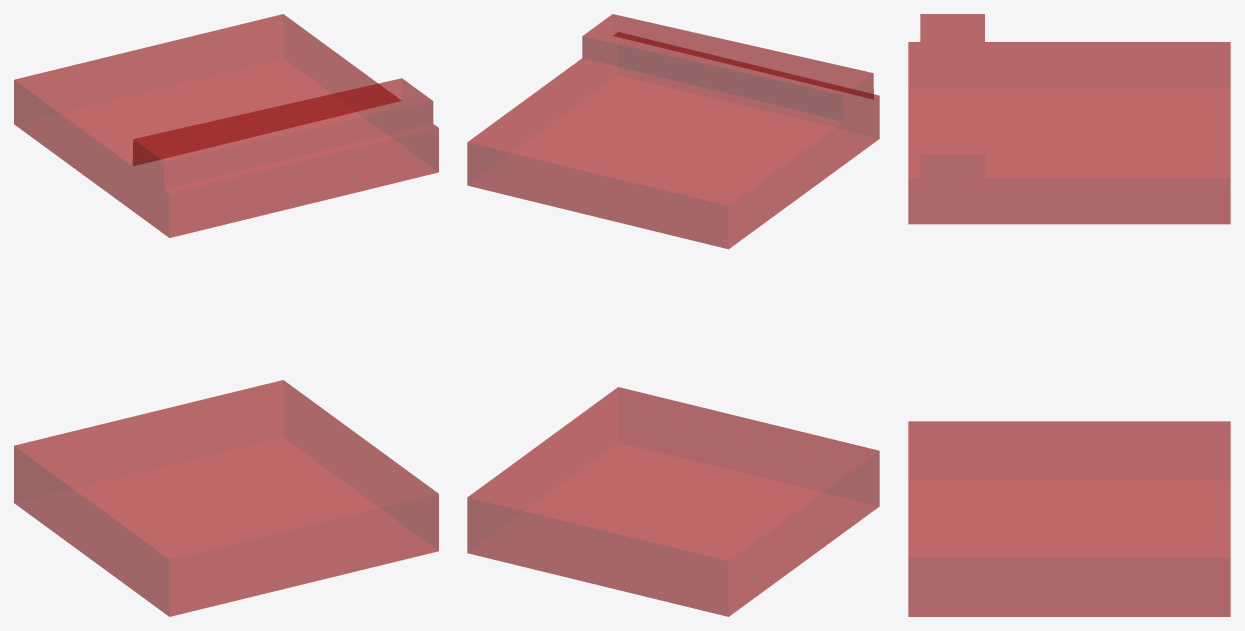
The model's file is SM_Env_Motorway_Tunnel_Middle_01_Collision.fbx.
3 renders of one model, left to right at view 1: azimuth 30°, elevation 25°; view 2: azimuth 150°, elevation 25°; view 3: azimuth 270°, elevation 25°, orthographic. The views are drawn at different scales.
Parts seen in each view (by area): view 1: SM_Env_Motorway_Tunnel_Middle_01_Collision; view 2: SM_Env_Motorway_Tunnel_Middle_01_Collision; view 3: SM_Env_Motorway_Tunnel_Middle_01_Collision.
Part boxes in pixels (left/top/right/bottom): SM_Env_Motorway_Tunnel_Middle_01_Collision: left=14, top=14, right=438, bottom=616; SM_Env_Motorway_Tunnel_Middle_01_Collision: left=467, top=14, right=879, bottom=616; SM_Env_Motorway_Tunnel_Middle_01_Collision: left=908, top=14, right=1230, bottom=616.
Size of the model in its own units: 500 by 799 by 500.
